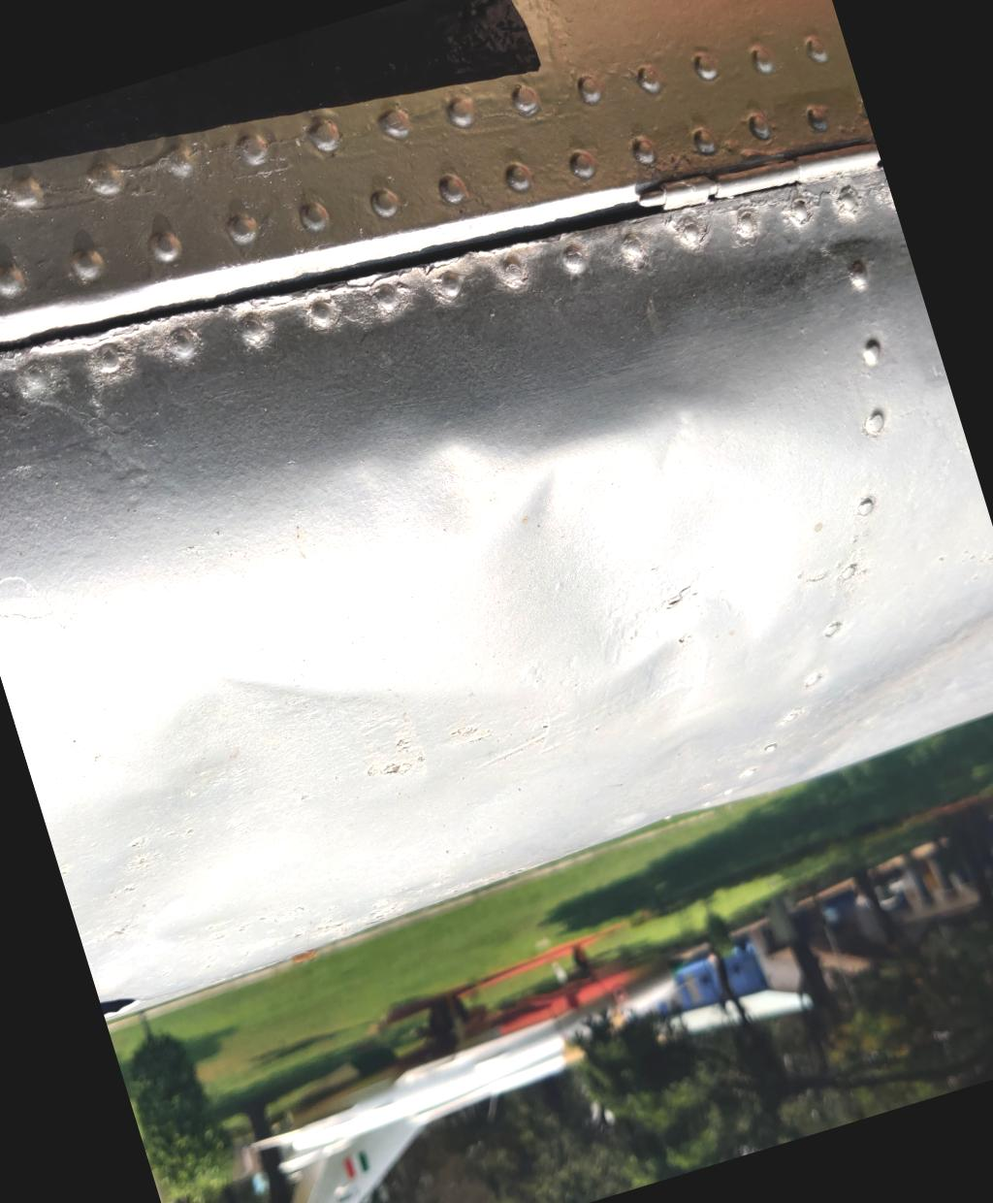dent: (389, 283, 888, 801)
